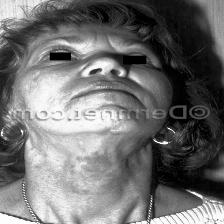Toxin: (74, 150, 117, 177)
